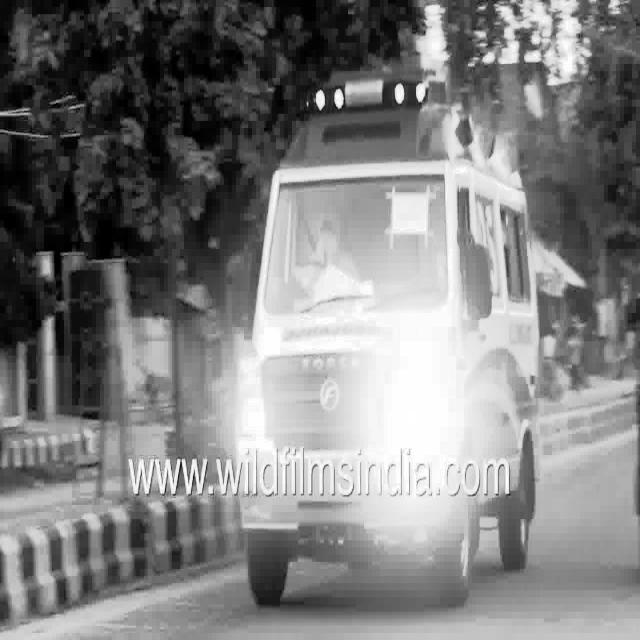Ambulance: (228, 53, 540, 591)
